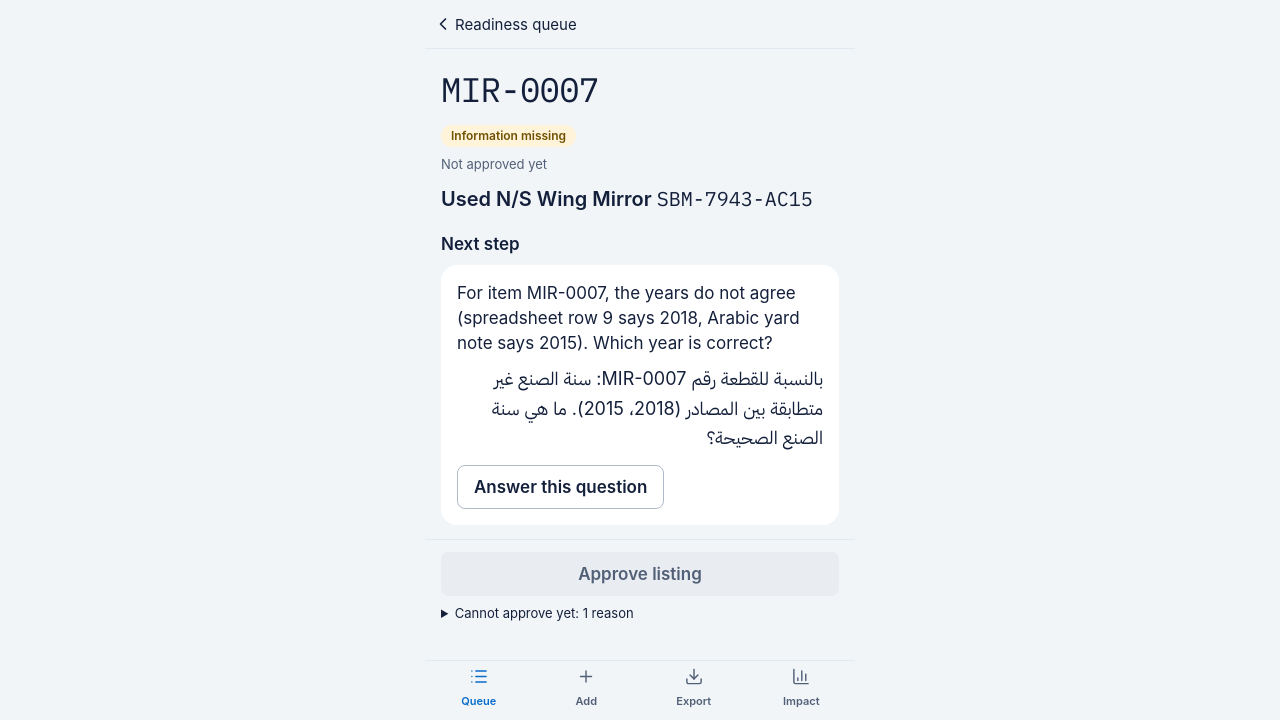
Test: shows one first blocker in Next step and remaining actions only in Needs your answer
The image size is (1280, 720).
Expected: the text "For item MIR-0007, the years do not agree (spreadsheet row 9 says 2018, Arabic yard note says 2015). Which year is corre" is shown, 457,283 -> 800,353
Click the button "Answer this question". click: [561, 487]
box: 457,465 -> 664,509
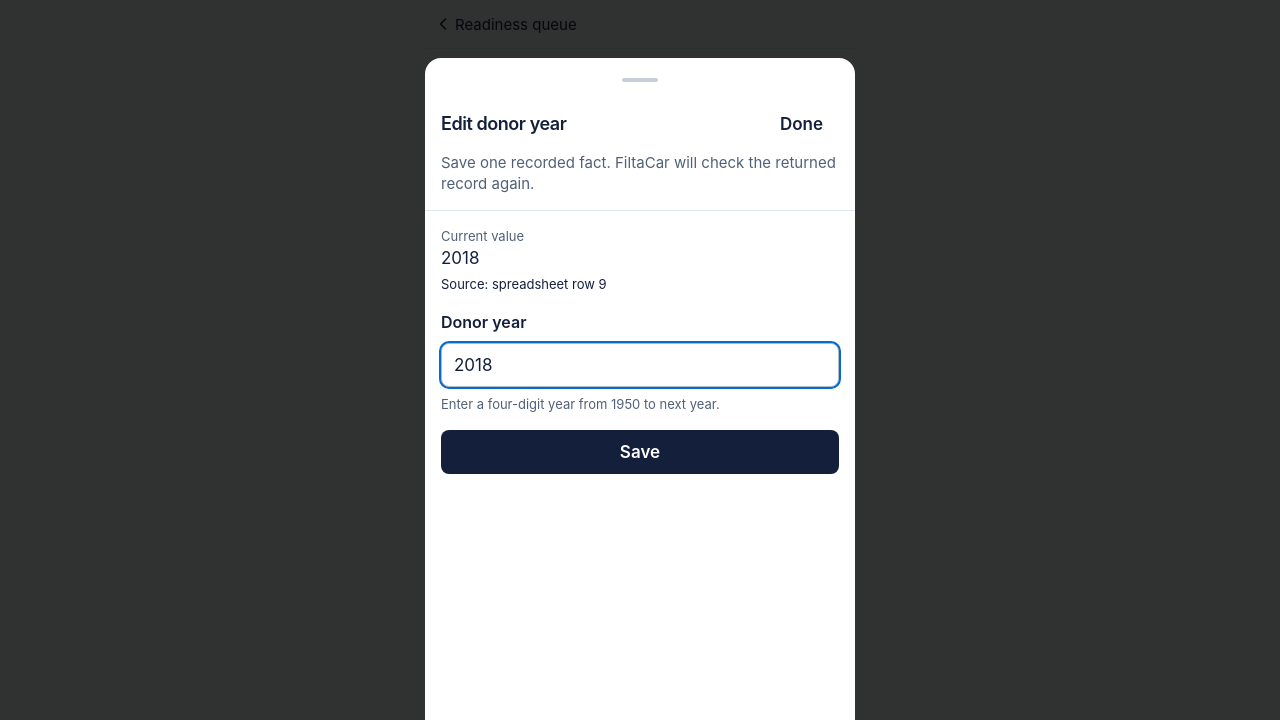
Now the field labelled "Donor year" holds "2018", box 441,343 -> 839,387
